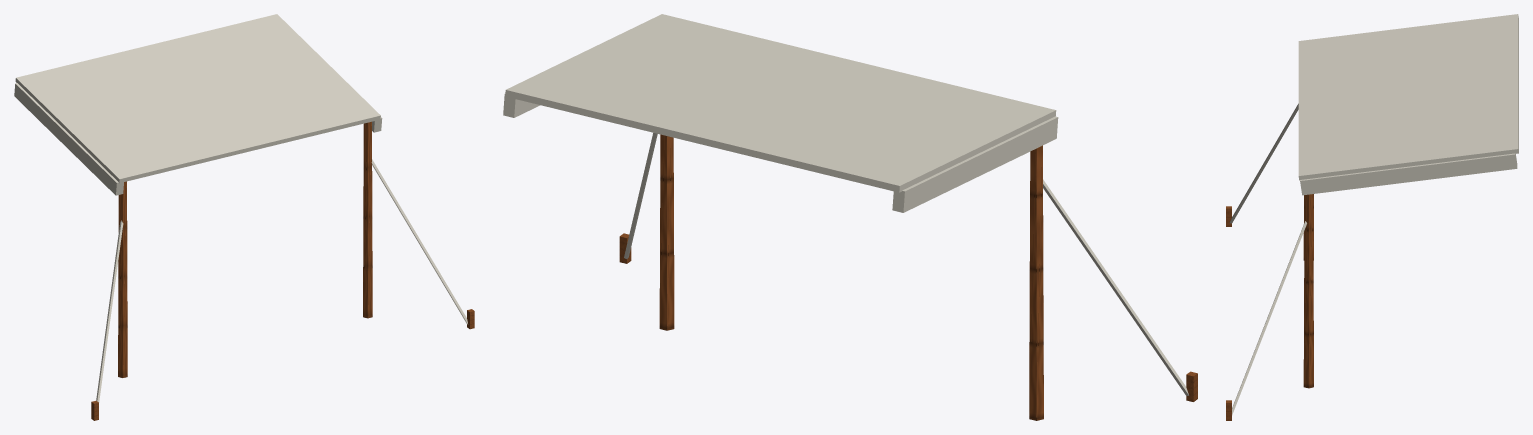
Rendered from safari-camp-and-bush-lodge-tent-awning-and-guy-set-05ec2e4a__37669.glb.
3 views of the same model, side by side, from view 1: azimuth 30°, elevation 25°; view 2: azimuth 150°, elevation 25°; view 3: azimuth 270°, elevation 25° (orthographic). The views are drawn at different scales.
Parts seen in each view (by area): view 1: tent-awning-and-guy-set-canvas, tent-awning-and-guy-set-timber; view 2: tent-awning-and-guy-set-canvas, tent-awning-and-guy-set-timber; view 3: tent-awning-and-guy-set-canvas, tent-awning-and-guy-set-timber.
Boxes of the visible parts, x1,y1,x2,y2 form: tent-awning-and-guy-set-canvas: [14, 14, 467, 402]; tent-awning-and-guy-set-timber: [91, 121, 474, 420]; tent-awning-and-guy-set-canvas: [503, 14, 1188, 395]; tent-awning-and-guy-set-timber: [619, 134, 1197, 420]; tent-awning-and-guy-set-canvas: [1229, 14, 1518, 415]; tent-awning-and-guy-set-timber: [1226, 194, 1313, 420].
Size of the model in its own units: 4.66 by 2.67 by 2.93.
Materials: 2 (1 with a texture image).
